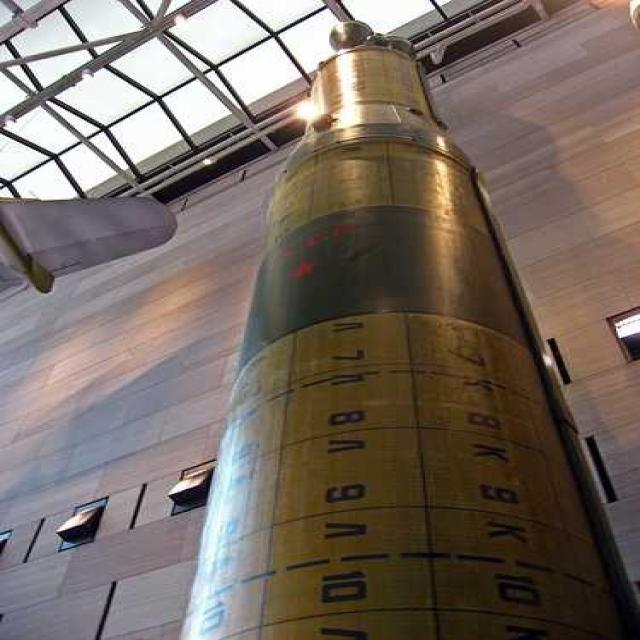missile: (192, 36, 636, 640)
